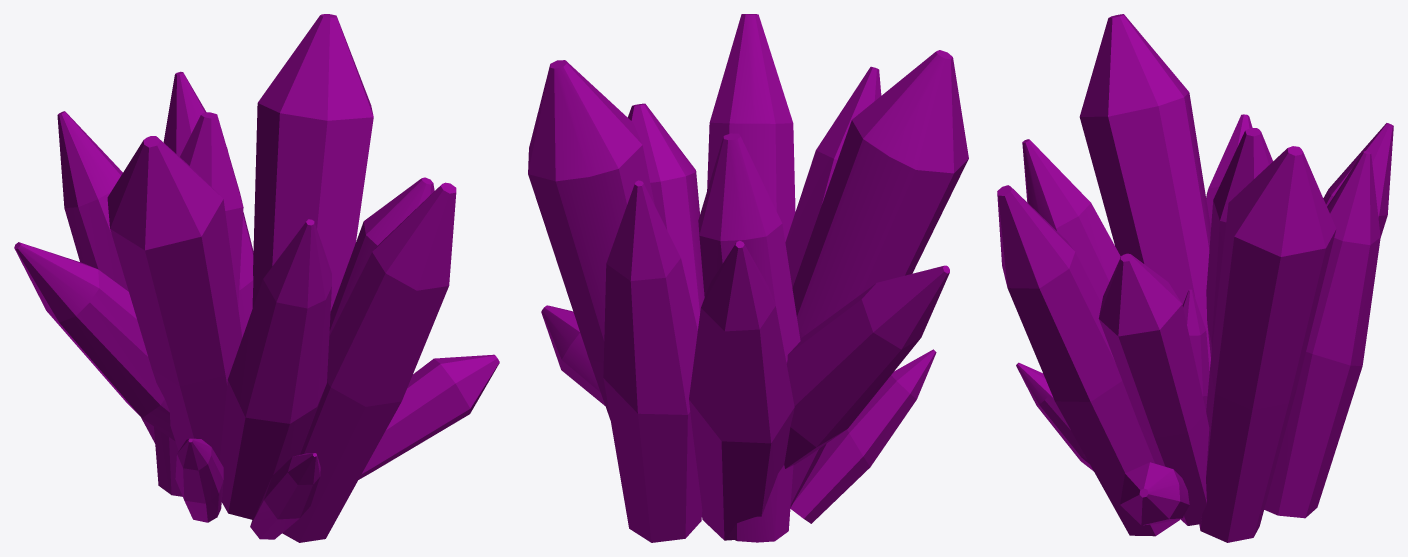
File: Crystal_Bunch_Purple.fbx
The picture shows the model from 3 angles, left to right: view 1: azimuth 30°, elevation 25°; view 2: azimuth 150°, elevation 25°; view 3: azimuth 270°, elevation 25°; orthographic projection. The views are drawn at different scales.
Visible parts, largest first — view 1: Model; view 2: Model; view 3: Model.
Part boxes in pixels (x1,y1,x2,y2): Model: (14,14,499,542); Model: (528,14,968,542); Model: (997,14,1393,542).
Size of the model in its own units: 337 by 335 by 276.
